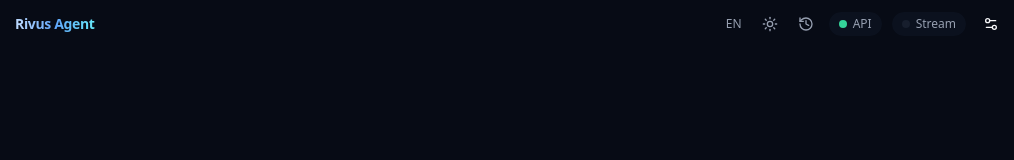
Header theme toggle › cycles theme on button click
Click the button named "切换主题". click: (770, 24)
box: [756, 10, 784, 38]
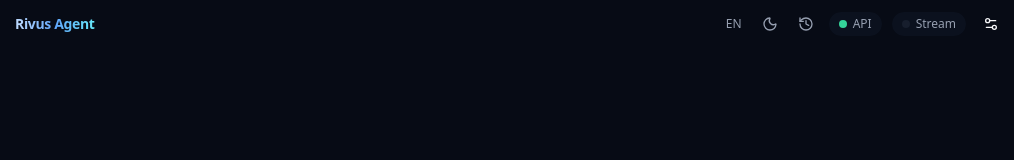
Now the button titled "主题：深色" is shown, box [756, 10, 784, 38]
